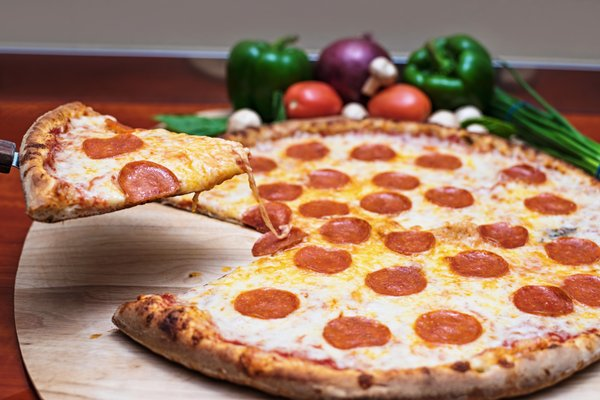curry: (0, 25, 600, 392)
sandwich: (45, 110, 599, 395), (17, 101, 264, 223)
